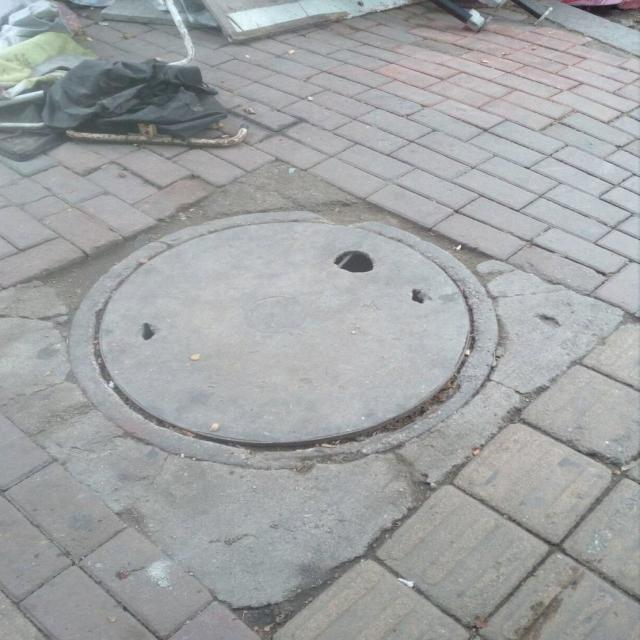Broken: (62, 210, 500, 470)
